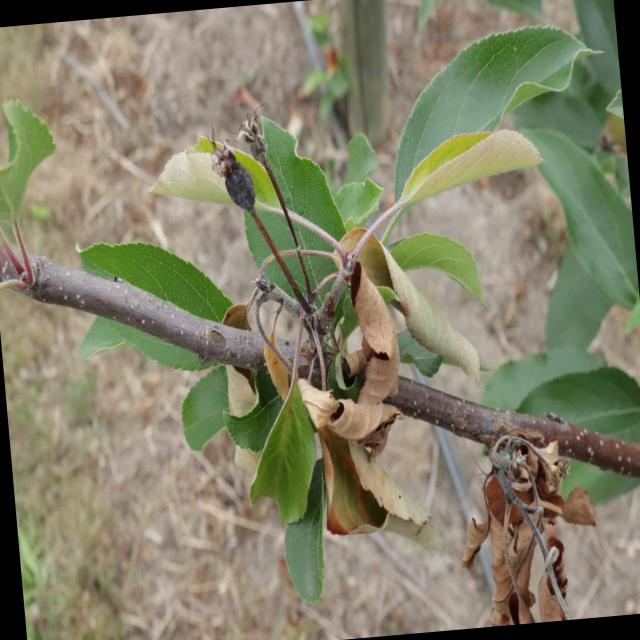-FireBlight-: (455, 416, 588, 628), (328, 213, 482, 396), (280, 326, 404, 552)
